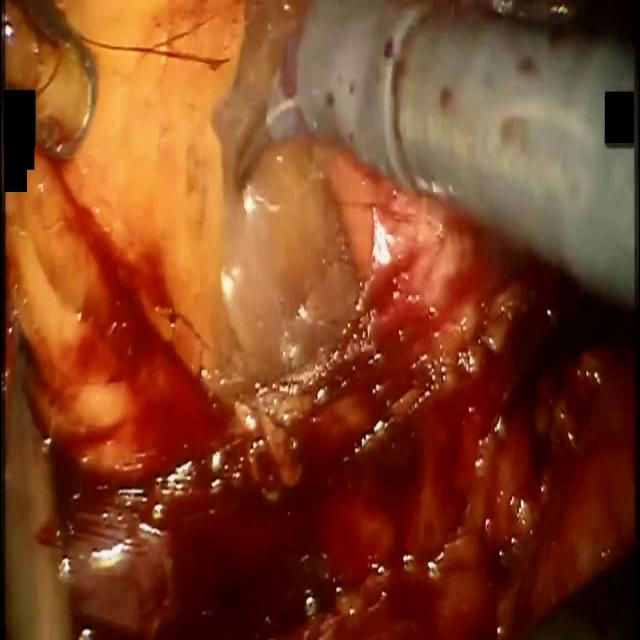surgical-area: (2, 0, 640, 639)
surgical-tool: (232, 0, 638, 315)
